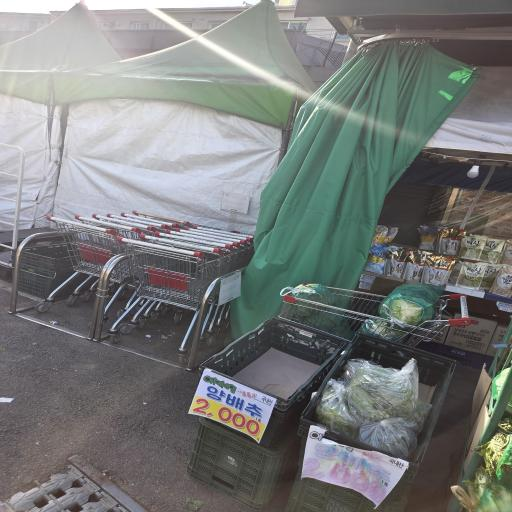combined_cart: (9, 209, 200, 343), (94, 223, 255, 372)
